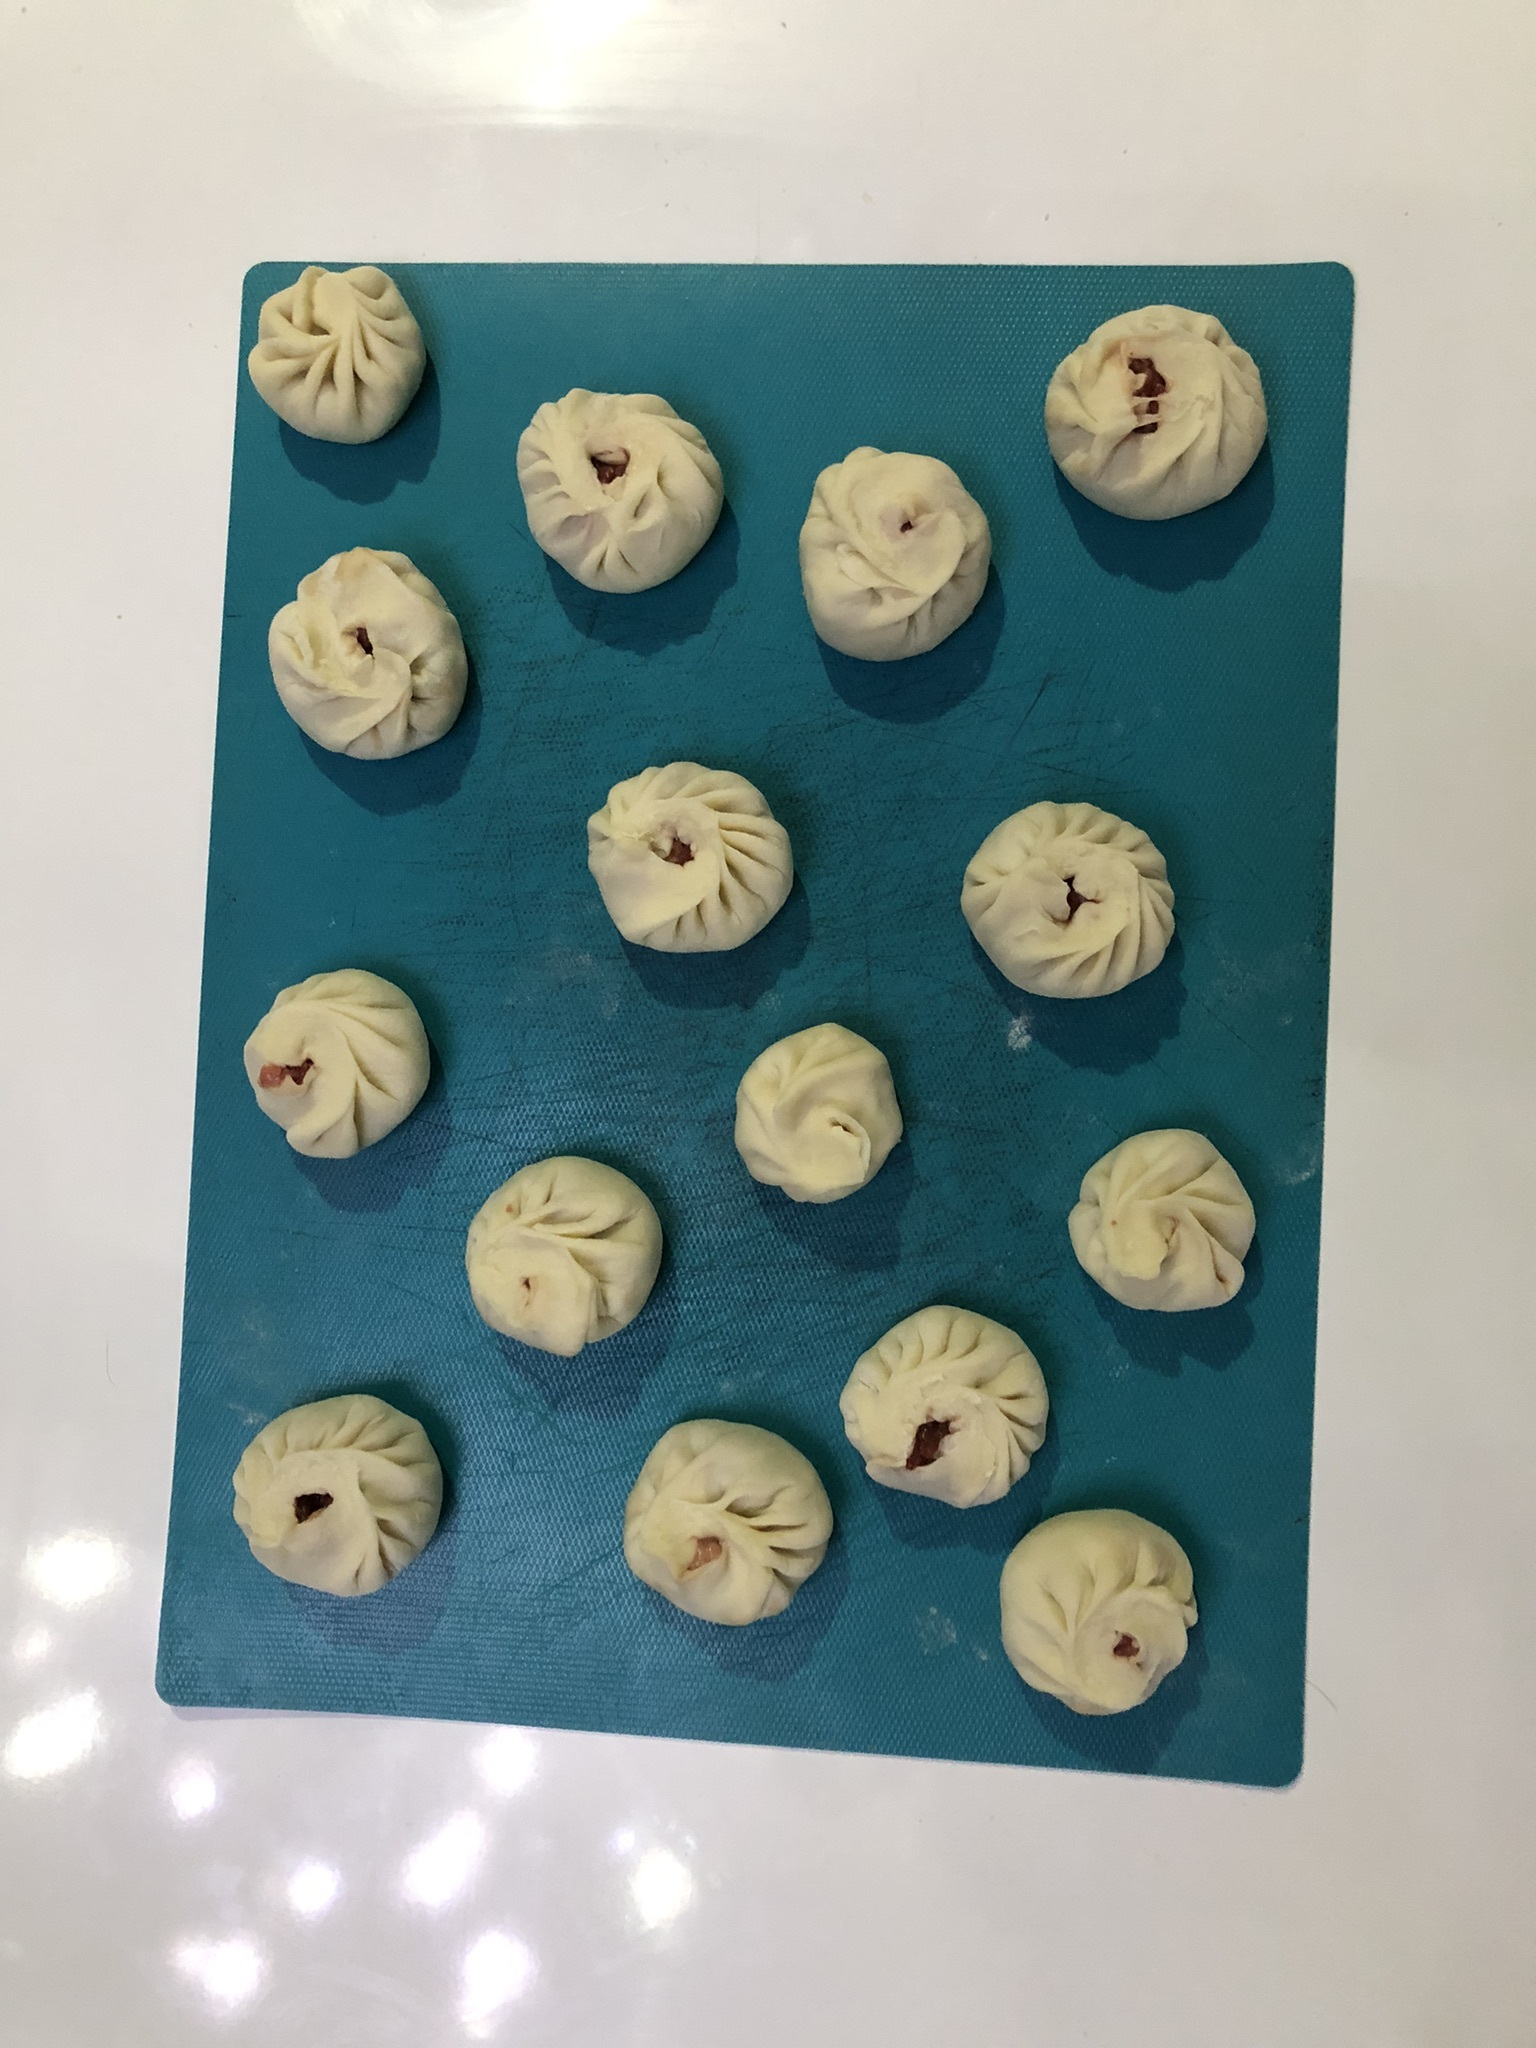buuz: (1029, 290, 1283, 540), (216, 1380, 457, 1609), (253, 539, 479, 776), (449, 1148, 687, 1372), (950, 790, 1191, 1013), (503, 381, 739, 606), (987, 1508, 1217, 1737), (613, 1408, 837, 1642), (833, 1287, 1058, 1517), (791, 435, 1004, 672), (578, 748, 803, 968), (232, 956, 449, 1171), (1050, 1116, 1268, 1322), (720, 1009, 916, 1219), (245, 260, 436, 456)
